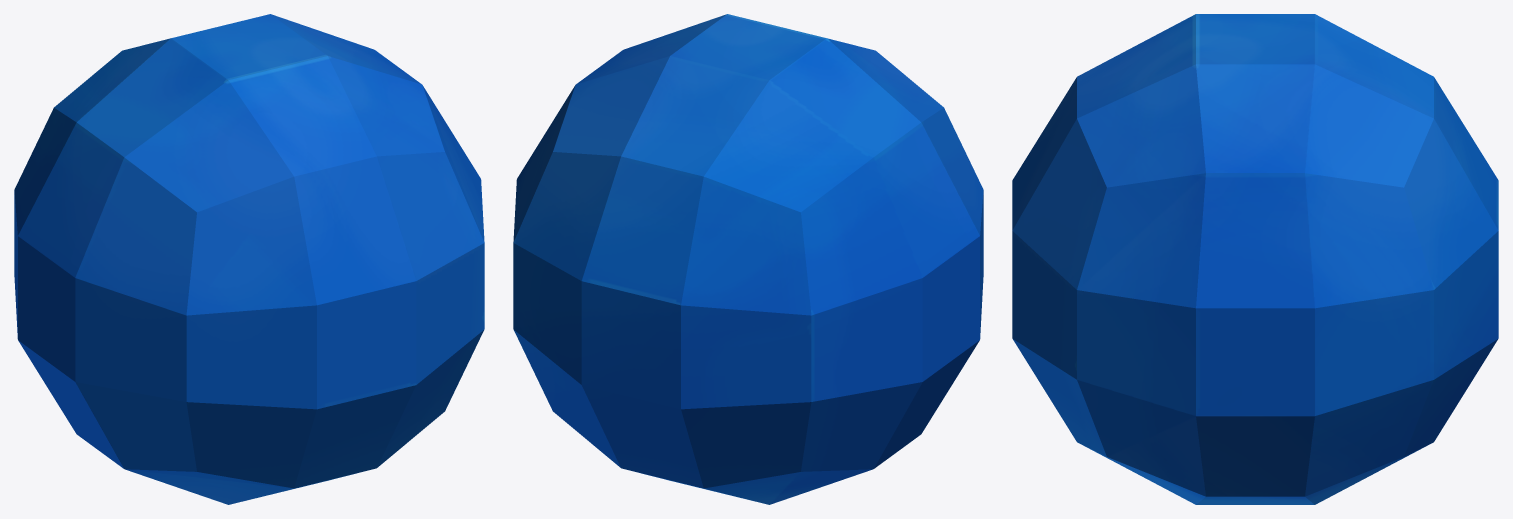
Rendered from Orb.fbx.
3 renders of one model, left to right at view 1: azimuth 30°, elevation 25°; view 2: azimuth 150°, elevation 25°; view 3: azimuth 270°, elevation 25°, orthographic. The views are drawn at different scales.
Visible parts, largest first — view 1: Sphere; view 2: Sphere; view 3: Sphere.
Part boxes in pixels (<box>): Sphere: <box>14,14,484,504</box>; Sphere: <box>513,14,983,504</box>; Sphere: <box>1012,14,1498,504</box>.
Size of the model in its own units: 0.4 by 0.4 by 0.4.
